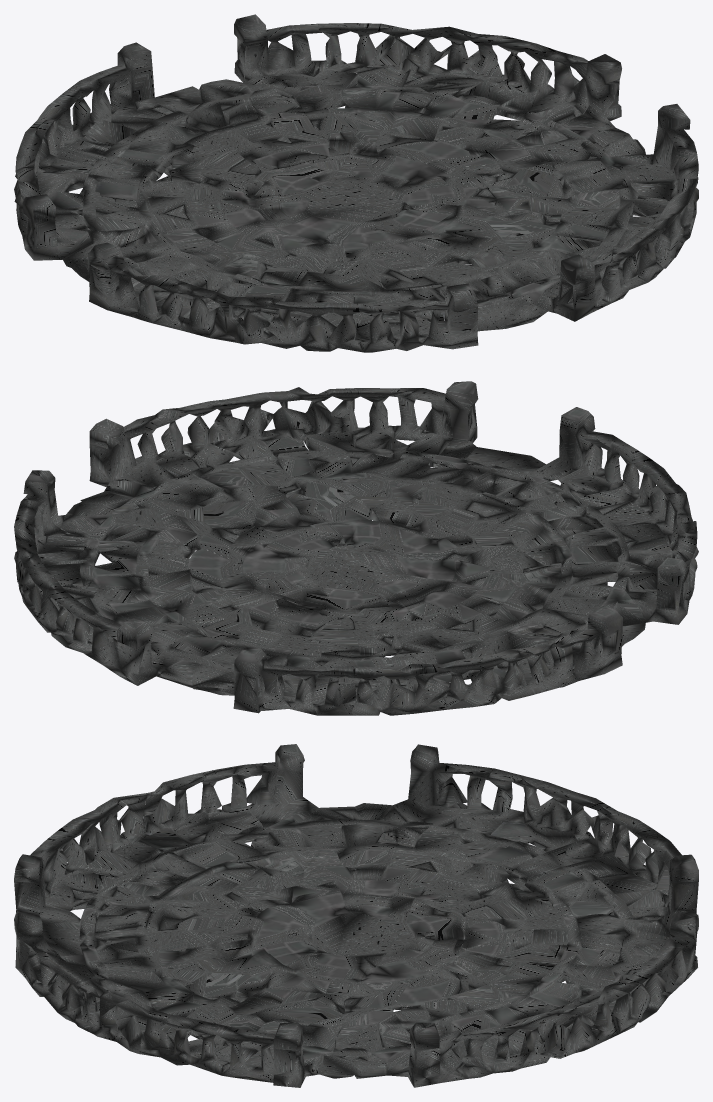
Rendered from arena.glb.
The picture shows the model from 3 angles, top to bottom: view 1: azimuth 30°, elevation 25°; view 2: azimuth 150°, elevation 25°; view 3: azimuth 270°, elevation 25°; orthographic projection.
Parts seen in each view (by area): view 1: output_unwrapped; view 2: output_unwrapped; view 3: output_unwrapped.
Part boxes in pixels (x1,y1,x2,y2): output_unwrapped: (14, 14, 698, 352); output_unwrapped: (14, 381, 698, 715); output_unwrapped: (14, 744, 698, 1087).
Bounding box in the file's own units: 1.9 × 0.1751 × 1.9.
1 material, 1 textured.
